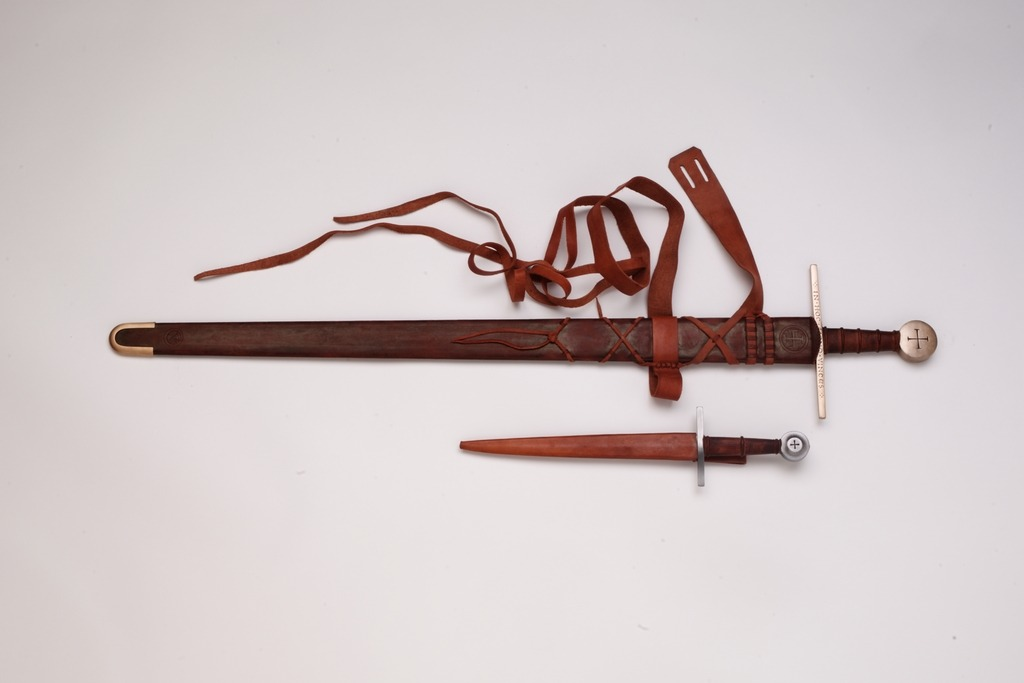sword: (89, 267, 951, 399), (421, 385, 835, 510)
